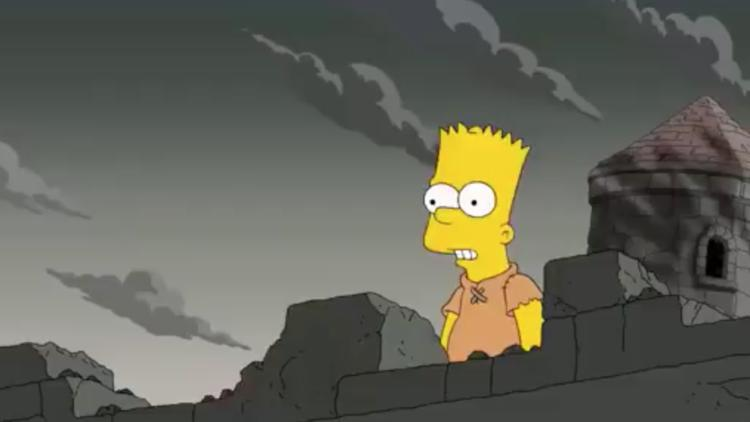Bart: (395, 109, 574, 392)
